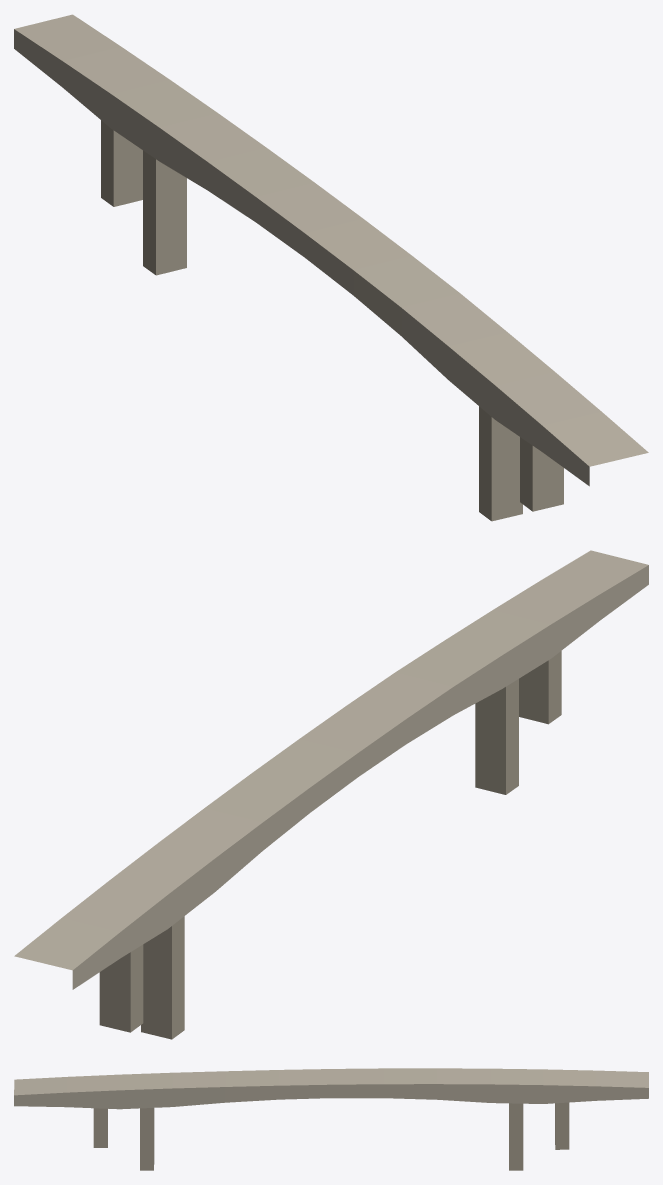
File: kohala_bridge_far.glb
3 renders of one model, top to bottom at view 1: azimuth 30°, elevation 25°; view 2: azimuth 150°, elevation 25°; view 3: azimuth 270°, elevation 25°, orthographic. The views are drawn at different scales.
Parts seen in each view (by area): view 1: m_girder_concrete, m_pier_concrete; view 2: m_girder_concrete, m_pier_concrete; view 3: m_girder_concrete, m_pier_concrete.
Part boxes in pixels (<box>): m_girder_concrete: <box>14,14,648,486</box>; m_pier_concrete: <box>101,120,563,521</box>; m_girder_concrete: <box>14,550,648,989</box>; m_pier_concrete: <box>99,651,561,1039</box>; m_girder_concrete: <box>14,1068,648,1109</box>; m_pier_concrete: <box>93,1102,569,1170</box>.
Size of the model in its own units: 11.34 by 28.3 by 180.
